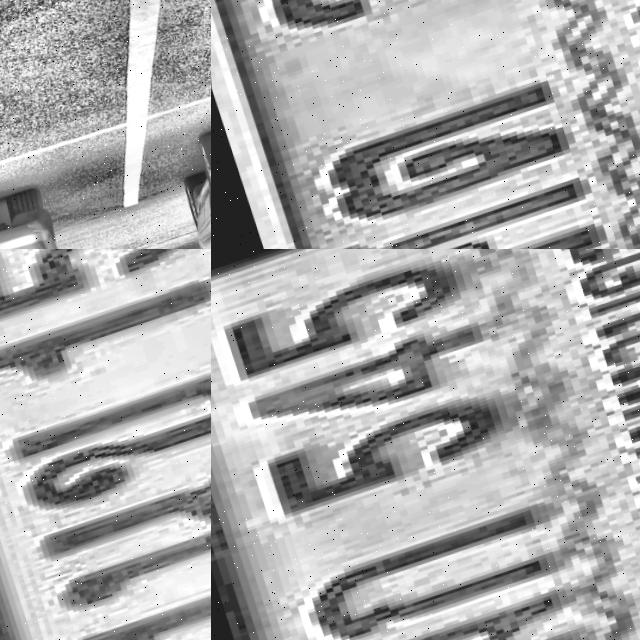license-plate: (211, 249, 640, 640), (211, 0, 640, 249), (0, 249, 211, 640), (44, 130, 94, 192)
